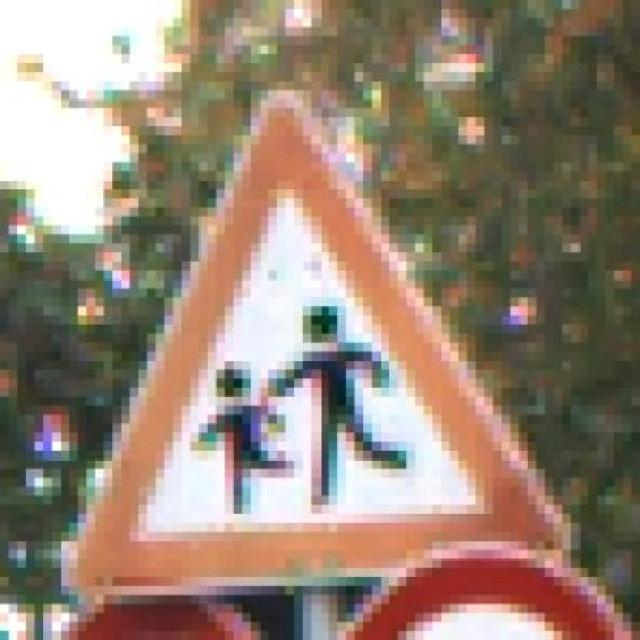Beware of children: (69, 72, 588, 613)
